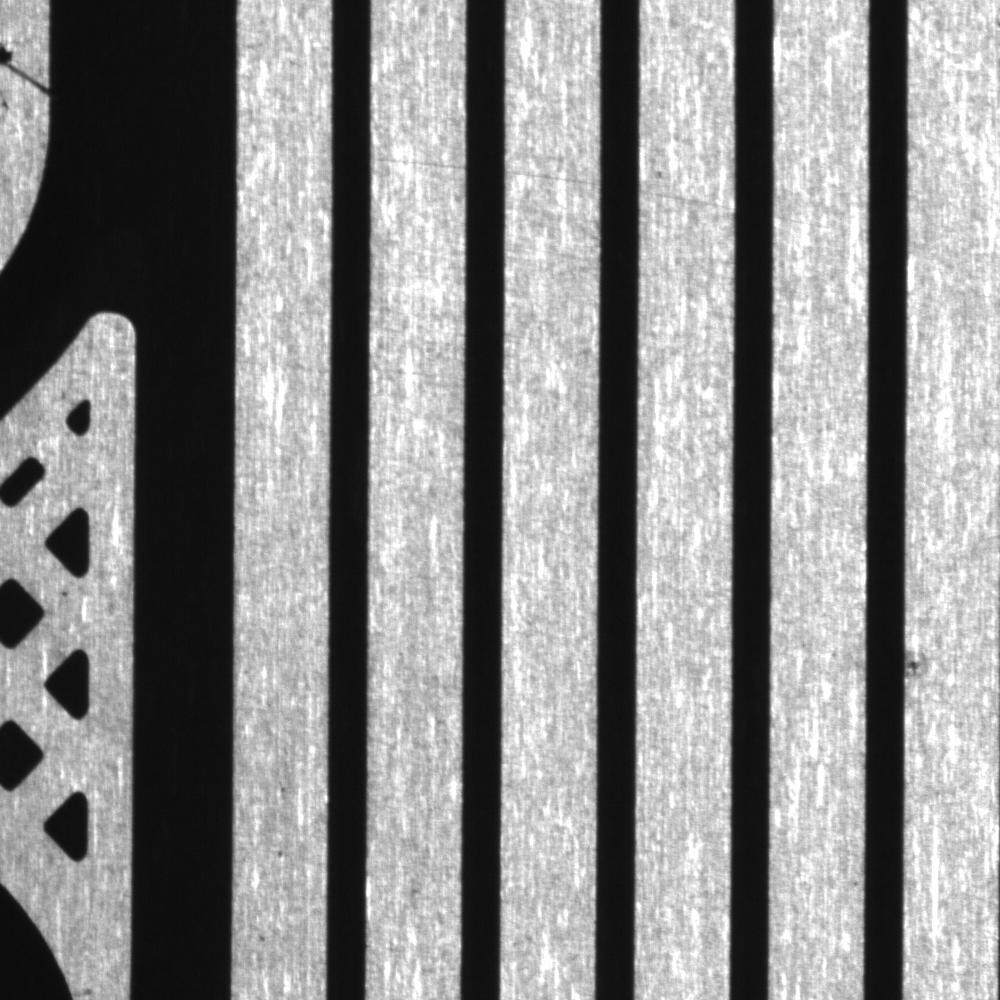Etching: (906, 646, 936, 685), (269, 773, 294, 800), (251, 925, 273, 951), (268, 844, 289, 865)
Scar: (373, 130, 463, 194), (508, 150, 599, 207), (638, 183, 734, 213), (775, 205, 849, 236)
